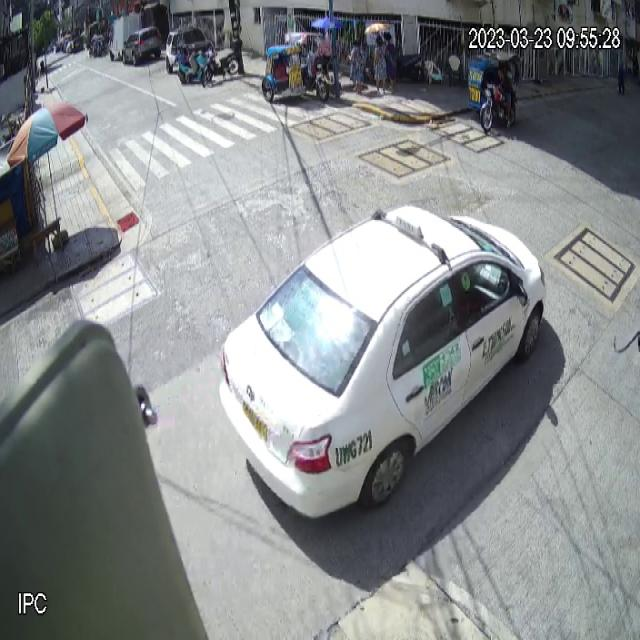Car: (220, 206, 545, 522)
Tricycle: (261, 32, 331, 102)
